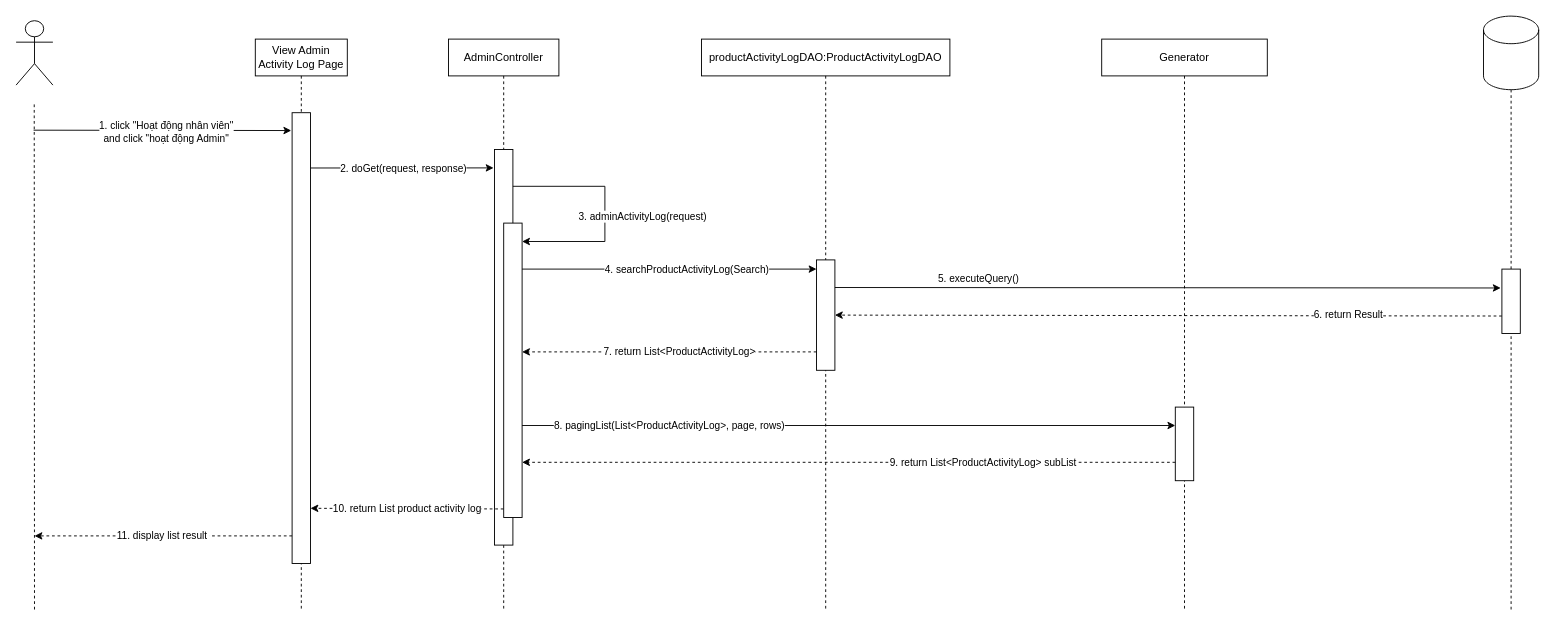
Image size: 1555x627. Some labels were removed from this diagram. Each missing label, with the centre of its shape:
Admin: the point at 34,52
Database: the point at 1511,52
